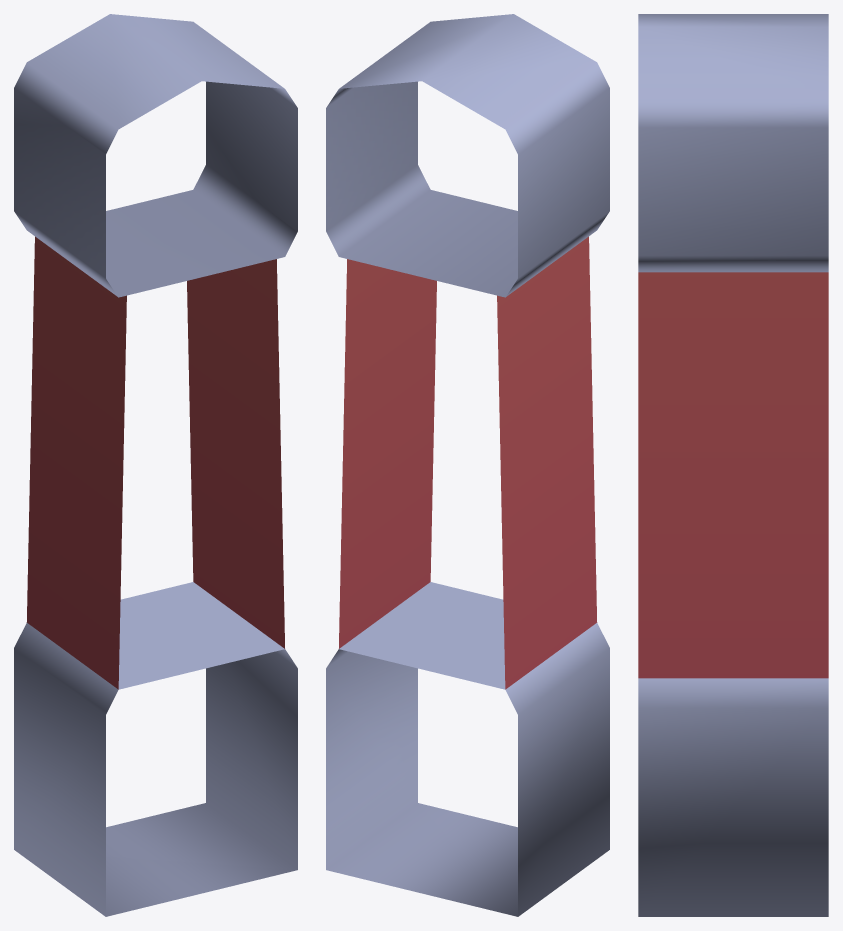
Rendered from WallArena01.glb.
3 views of the same model, side by side, from view 1: azimuth 30°, elevation 25°; view 2: azimuth 150°, elevation 25°; view 3: azimuth 270°, elevation 25° (orthographic). The views are drawn at different scales.
Parts seen in each view (by area): view 1: WallArena01; view 2: WallArena01; view 3: WallArena01.
Boxes of the visible parts, x1,y1,x2,y2 form: WallArena01: [14, 14, 297, 916]; WallArena01: [326, 14, 609, 916]; WallArena01: [638, 14, 828, 916].
Size of what is drawn, in the model's own units: 1.21 by 4.88 by 1.
Materials: 1 (1 with a texture image).
